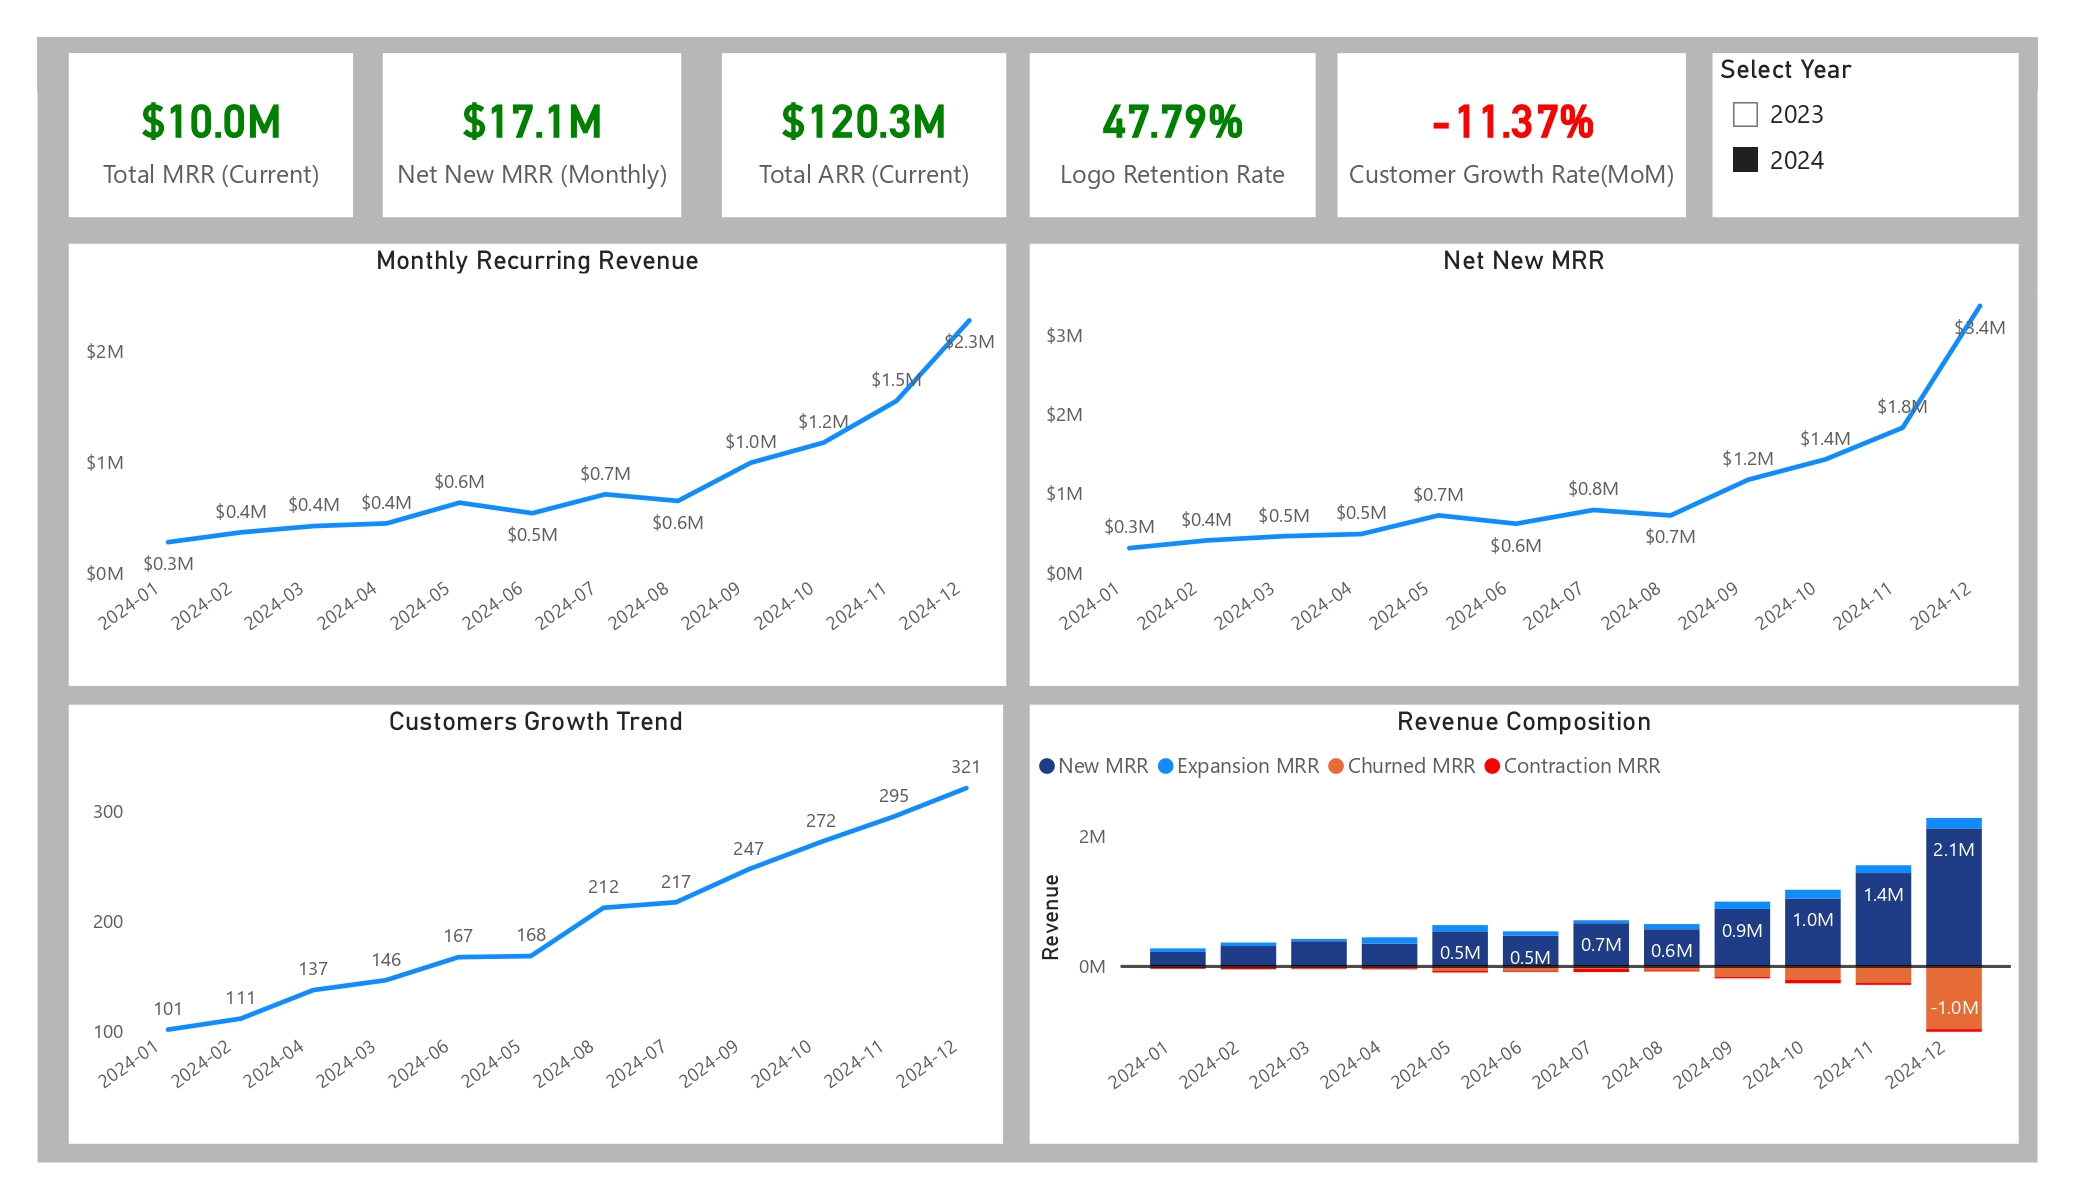

What the dashboard file says about the page in this screenshot:
{"tool":"powerbi","page":{"name":"Page 1","canvas":[1280,720],"ordinal":0},"visuals":[{"type":"card","fields":{"Values":["ravenstack_subscriptions.Total MRR"]},"box":[20,10,181.7,105],"z":0},{"type":"card","fields":{"Values":["ravenstack_subscriptions.Total ARR"]},"box":[438.3,10,181.7,105],"z":1000},{"type":"card","fields":{"Values":["ravenstack_subscriptions.Net New MRR"]},"box":[221.1,9.5,190.9,105],"z":2000},{"type":"card","fields":{"Values":["ravenstack_subscriptions.Customer Growth Rate"]},"box":[831.9,9.5,222.7,105],"z":3000},{"type":"lineChart","title":"Monthly Recurring Revenue","fields":{"Category":["DateTable.YearMonth"],"Y":["ravenstack_subscriptions.Total MRR"]},"box":[20,131.7,600,283.3],"z":4000},{"type":"lineChart","title":"Net New MRR","fields":{"Category":["DateTable.YearMonth"],"Y":["ravenstack_subscriptions.Net New MRR"]},"box":[635,131.7,633.3,283.3],"z":5000},{"type":"card","fields":{"Values":["ravenstack_subscriptions.Logo Retention Rate"]},"box":[634.7,9.5,182.9,105],"z":6000},{"type":"lineChart","title":"Customers Growth Trend","fields":{"Y":["ravenstack_subscriptions.Active Customers (End of Month)"],"Category":["DateTable.YearMonth"]},"box":[20,426.7,598.3,281.7],"z":7000},{"type":"slicer","title":"Select Year","fields":{"Values":["DateTable.Year"]},"box":[1071.7,10,196.7,105],"z":8000},{"type":"columnChart","title":"Revenue Composition","fields":{"Category":["DateTable.YearMonth"],"Y":["ravenstack_subscriptions.New MRR","ravenstack_subscriptions.Expansion MRR","ravenstack_churn_events.Churned MRR","ravenstack_subscriptions.Contraction MRR"]},"box":[635,426.7,633.3,281.7],"z":9000}]}

Visuals, with their boxes in screenshot pixels (x1, y1, x2, y2):
card - ravenstack_subscriptions.Total MRR: [37, 38, 328, 205]
card - ravenstack_subscriptions.Total ARR: [706, 38, 997, 205]
card - ravenstack_subscriptions.Net New MRR: [359, 37, 664, 205]
card - ravenstack_subscriptions.Customer Growth Rate: [1335, 37, 1691, 205]
"Monthly Recurring Revenue" lineChart: [37, 232, 997, 685]
"Net New MRR" lineChart: [1021, 232, 2033, 685]
card - ravenstack_subscriptions.Logo Retention Rate: [1020, 37, 1312, 205]
"Customers Growth Trend" lineChart: [37, 704, 994, 1154]
"Select Year" slicer: [1719, 38, 2033, 205]
"Revenue Composition" columnChart: [1021, 704, 2033, 1154]
